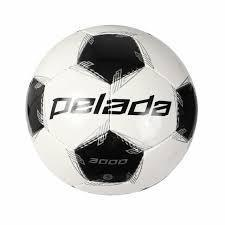Sports-Ball: (24, 20, 198, 198)
